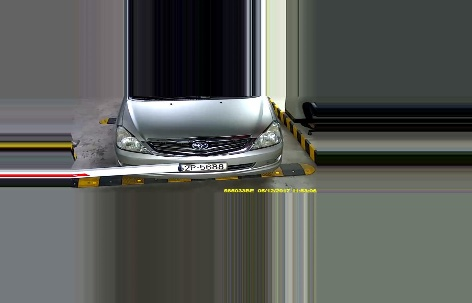plate: (177, 159, 229, 173)
